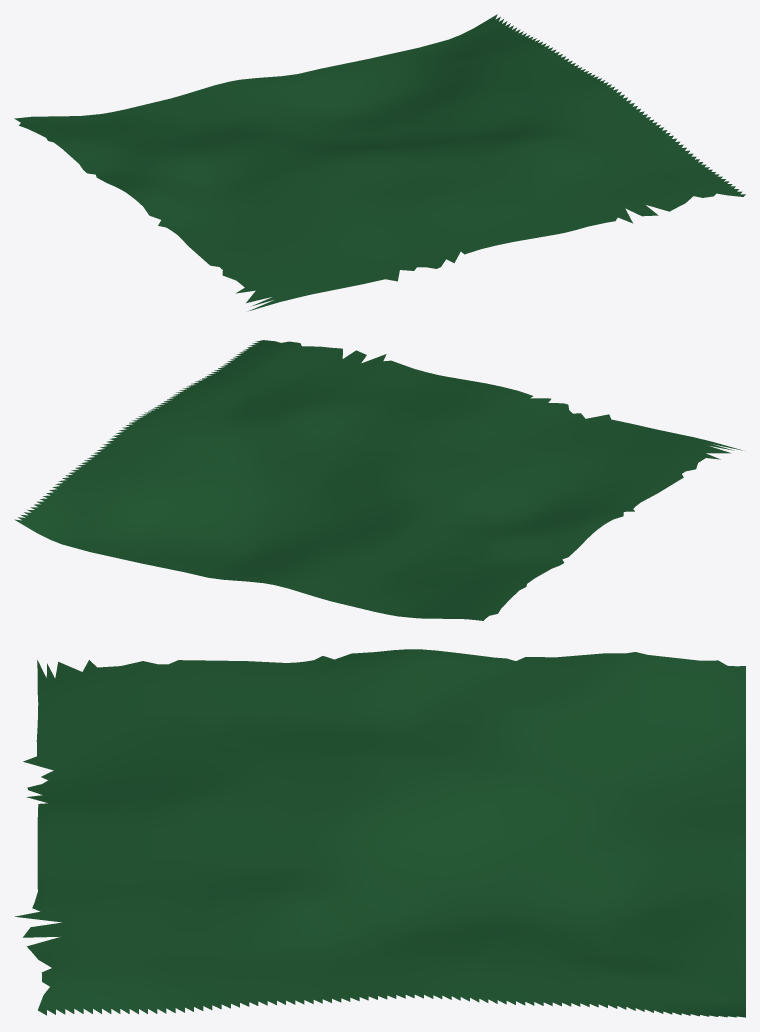
The model's file is payo_land_xm4_ym4_lod1.glb.
3 views of the same model, one above another, from view 1: azimuth 30°, elevation 25°; view 2: azimuth 150°, elevation 25°; view 3: azimuth 270°, elevation 25° (orthographic). The views are drawn at different scales.
Visible parts, largest first — view 1: payo_land_xm4_ym4; view 2: payo_land_xm4_ym4; view 3: payo_land_xm4_ym4.
Boxes of the visible parts, x1,y1,x2,y2 form: payo_land_xm4_ym4: (14,14,745,311); payo_land_xm4_ym4: (14,340,742,620); payo_land_xm4_ym4: (15,649,745,1017).
Bounding box in the file's own units: 267 × 22.62 × 239.
